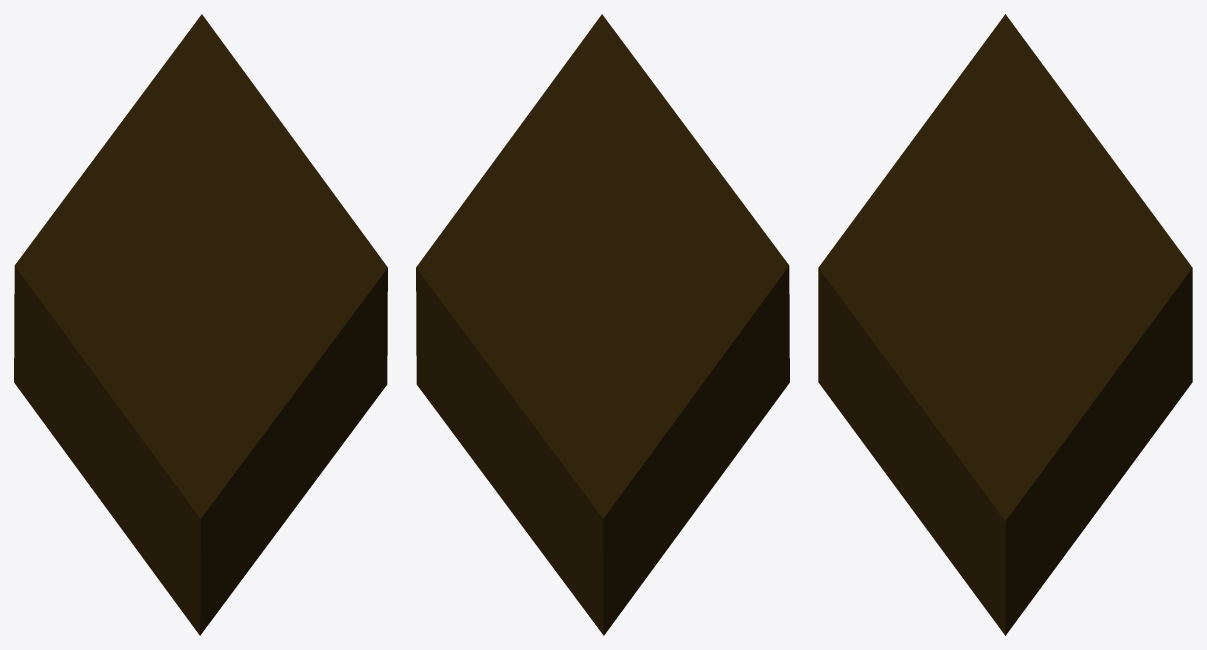
File: asteroid2.gltf
3 renders of one model, left to right at view 1: azimuth 30°, elevation 25°; view 2: azimuth 150°, elevation 25°; view 3: azimuth 270°, elevation 25°, orthographic.
Visible parts, largest first — view 1: Cube; view 2: Cube; view 3: Cube.
Boxes of the visible parts, left/top/right/bottom form: Cube: left=14, top=14, right=387, bottom=635; Cube: left=416, top=14, right=789, bottom=635; Cube: left=818, top=14, right=1192, bottom=635.
Size of the model in its own units: 3.26 by 5.2 by 2.83.
1 material, 1 textured.
